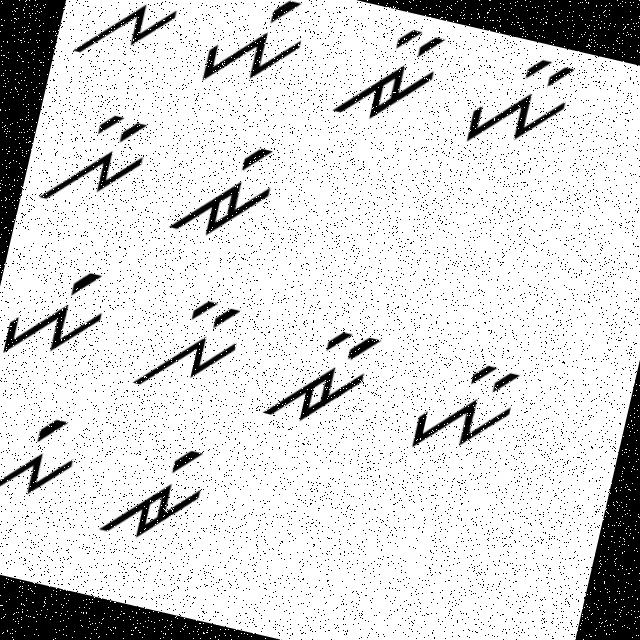lan: (31, 91, 158, 228), (123, 284, 251, 418)
lang: (0, 399, 86, 531), (70, 0, 189, 79)
ran: (250, 306, 388, 448), (324, 10, 449, 143)
rang: (158, 120, 294, 257), (93, 430, 219, 562)
yan: (399, 347, 534, 474), (461, 42, 582, 164)
yang: (0, 251, 119, 377), (188, 0, 317, 104)
